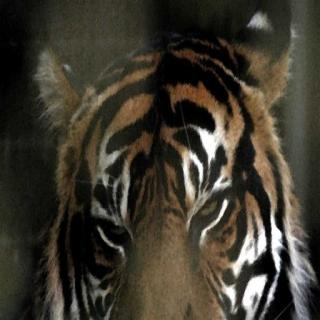Tiger: (22, 6, 313, 320)
